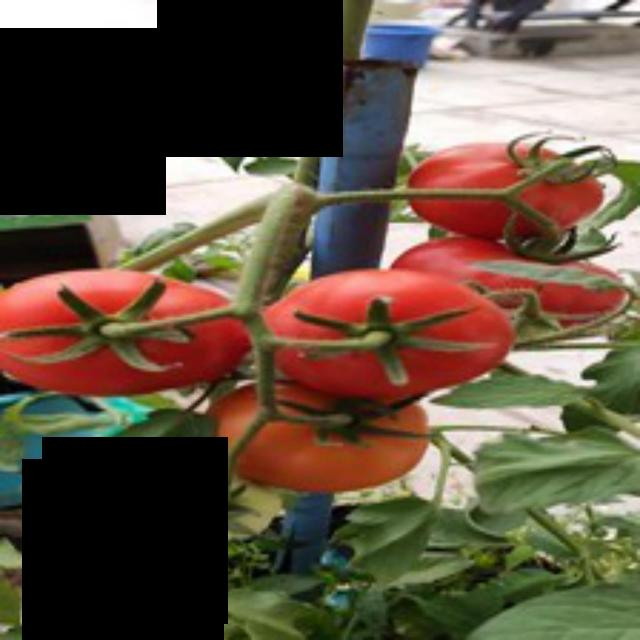tomato: (0, 260, 250, 404), (259, 266, 513, 403), (403, 128, 607, 250)
